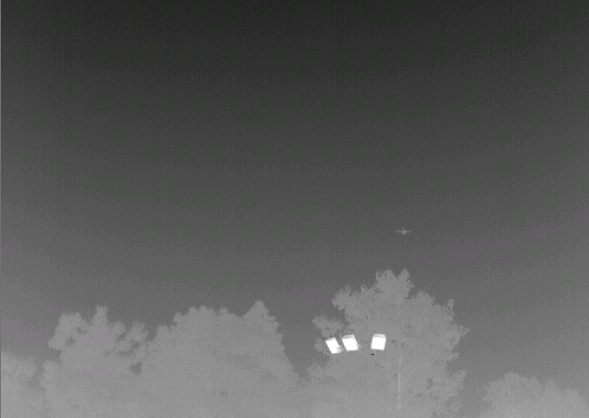dim target: (395, 225, 411, 236)
